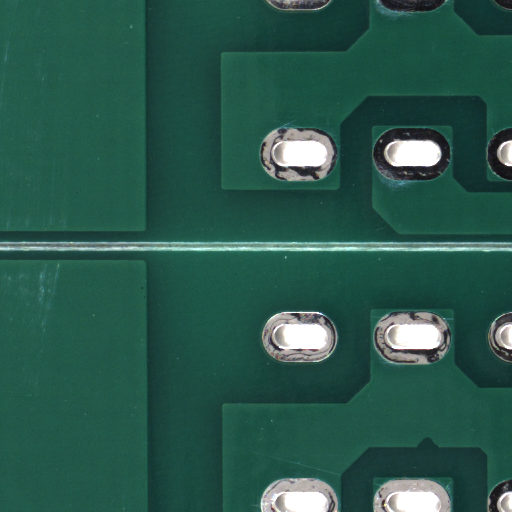Mouse_bite: (427, 443, 448, 456)
